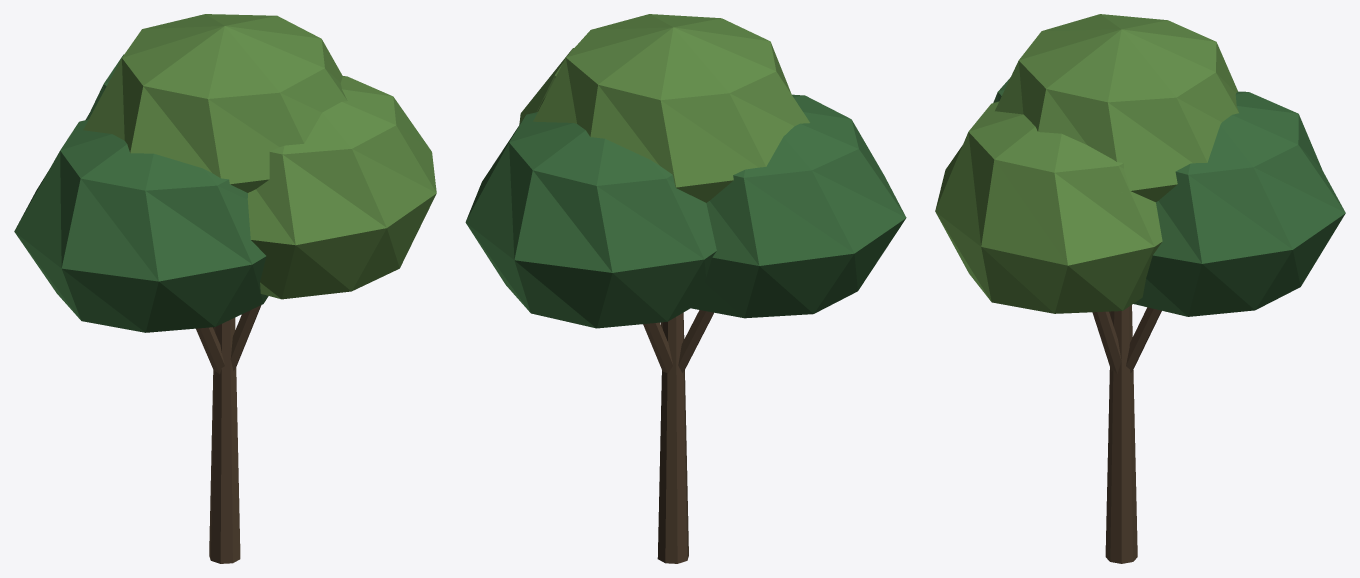
Rendered from tree_broadleaf.glb.
The picture shows the model from 3 angles, left to right: view 1: azimuth 30°, elevation 25°; view 2: azimuth 150°, elevation 25°; view 3: azimuth 270°, elevation 25°; orthographic projection.
Visible parts, largest first — view 1: tree_broadleaf; view 2: tree_broadleaf; view 3: tree_broadleaf.
Part boxes in pixels (x1,y1,x2,y2): tree_broadleaf: [14, 14, 436, 563]; tree_broadleaf: [465, 14, 906, 563]; tree_broadleaf: [935, 14, 1345, 563].
Bounding box in the file's own units: 6.47 × 8.68 × 6.12.
